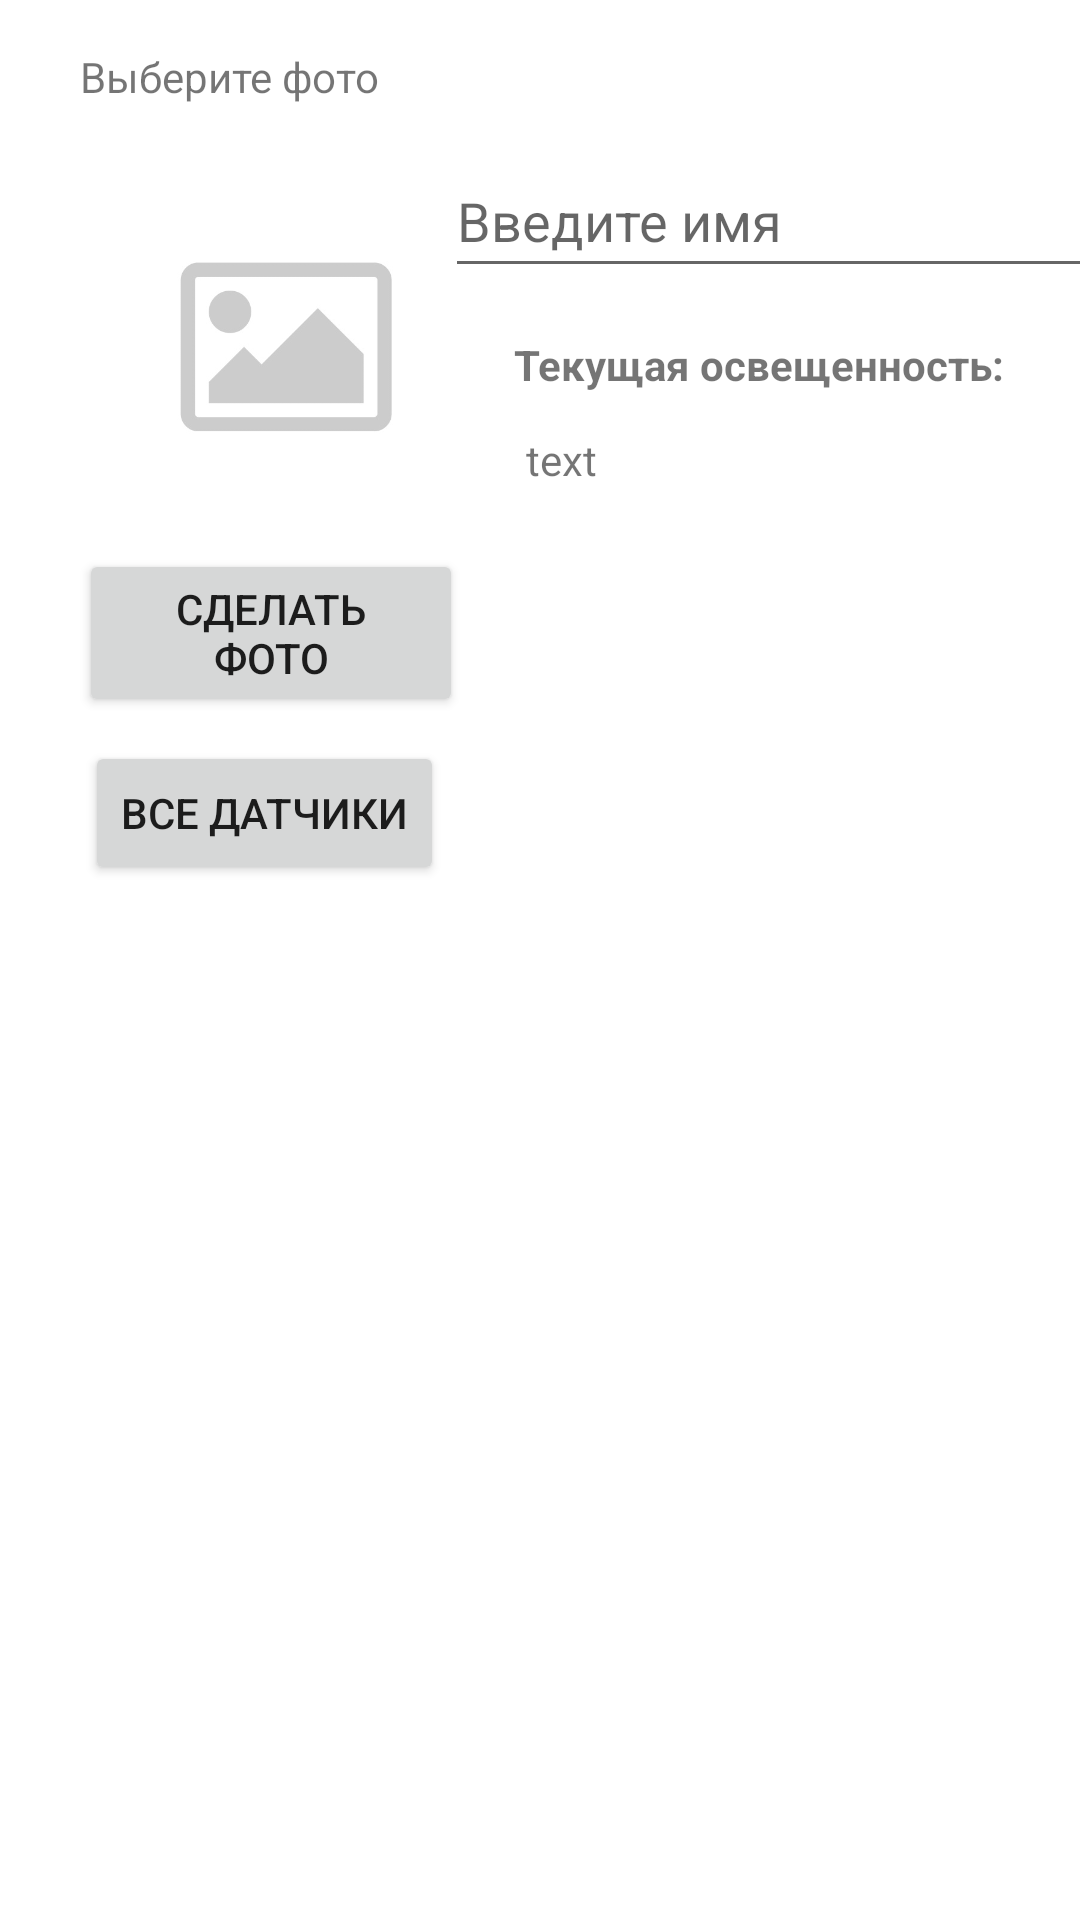

Named icons in this screenshot (1080px x 1920px) and their centers, point (x, y):
nophoto: point (286, 347)
